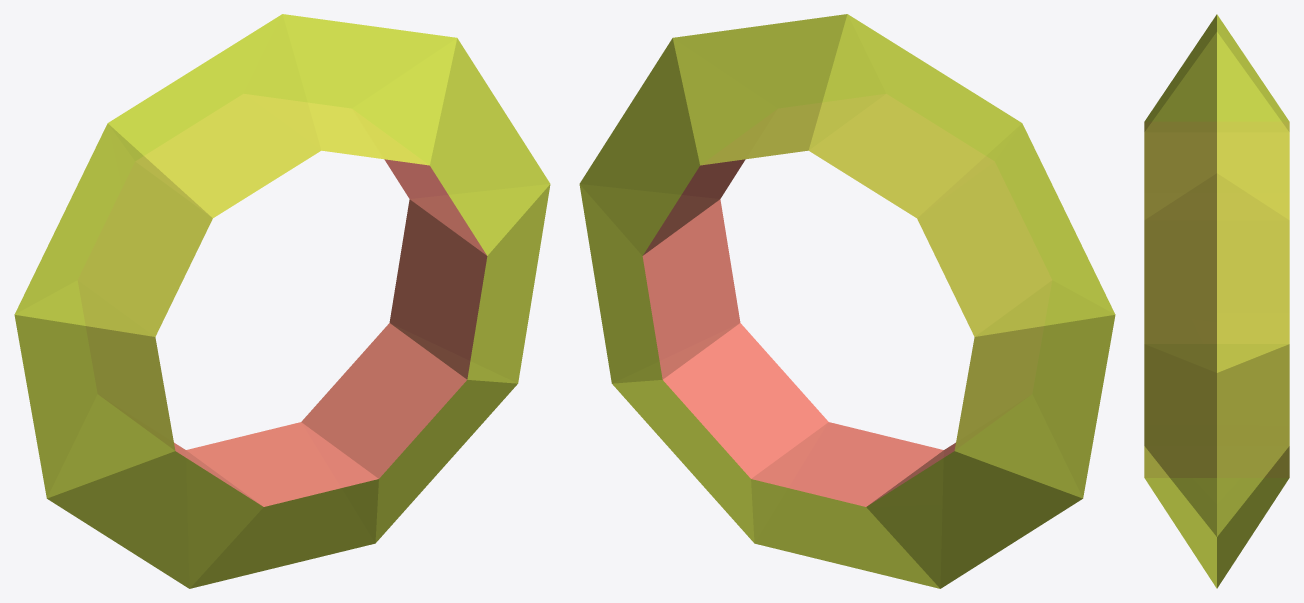
Rendered from Regular9TetragonalToroid.obj.
3 renders of one model, left to right at view 1: azimuth 30°, elevation 25°; view 2: azimuth 150°, elevation 25°; view 3: azimuth 270°, elevation 25°, orthographic. The views are drawn at different scales.
Bounding box in the file's own units: 2.78 × 2.74 × 0.7.
